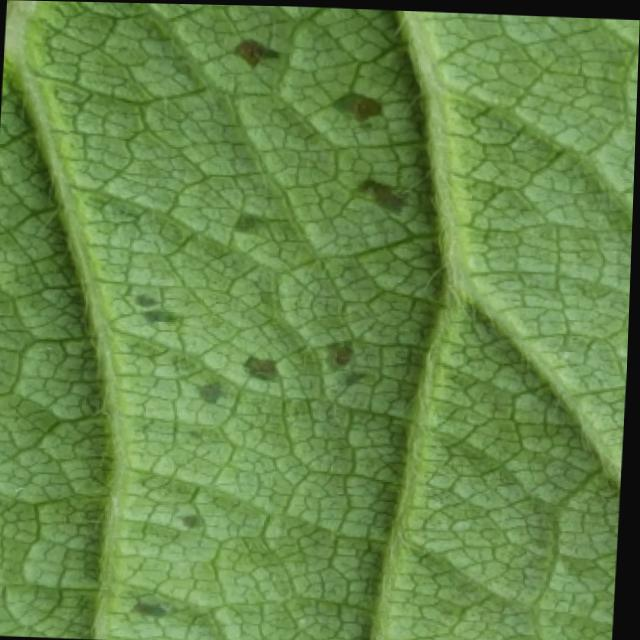Angular Leafspot: (113, 10, 416, 640)
